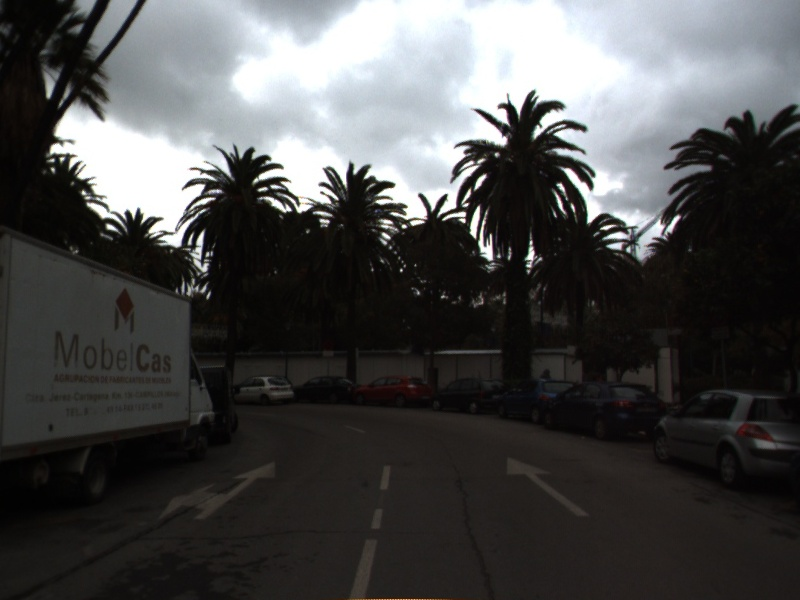STRAIGHT: (504, 455, 591, 518)
STRAIGHT_LEFT: (156, 459, 278, 522)
